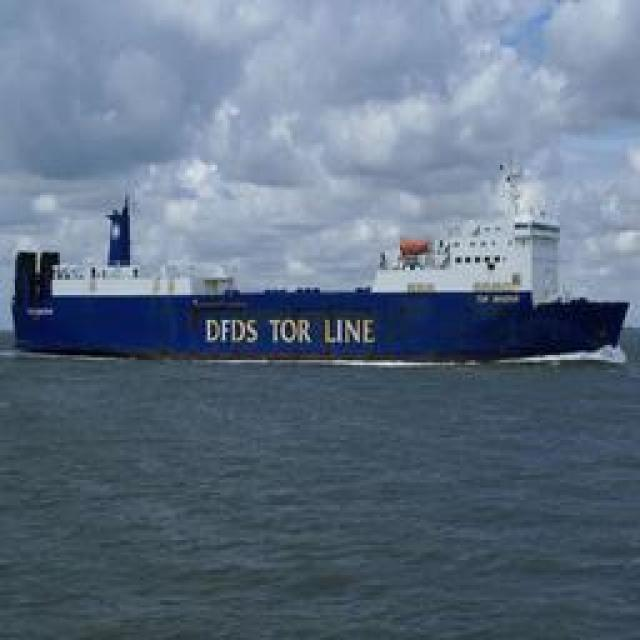CIV_Ship: (26, 252, 624, 366)
